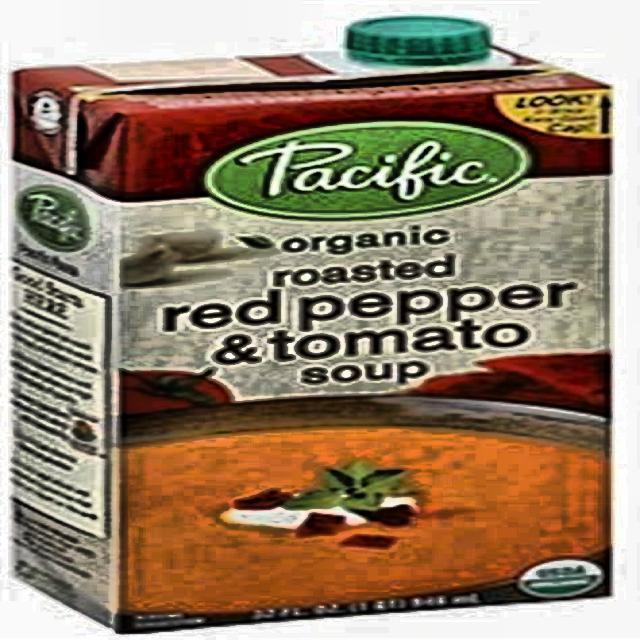cardboard: (3, 33, 614, 632)
